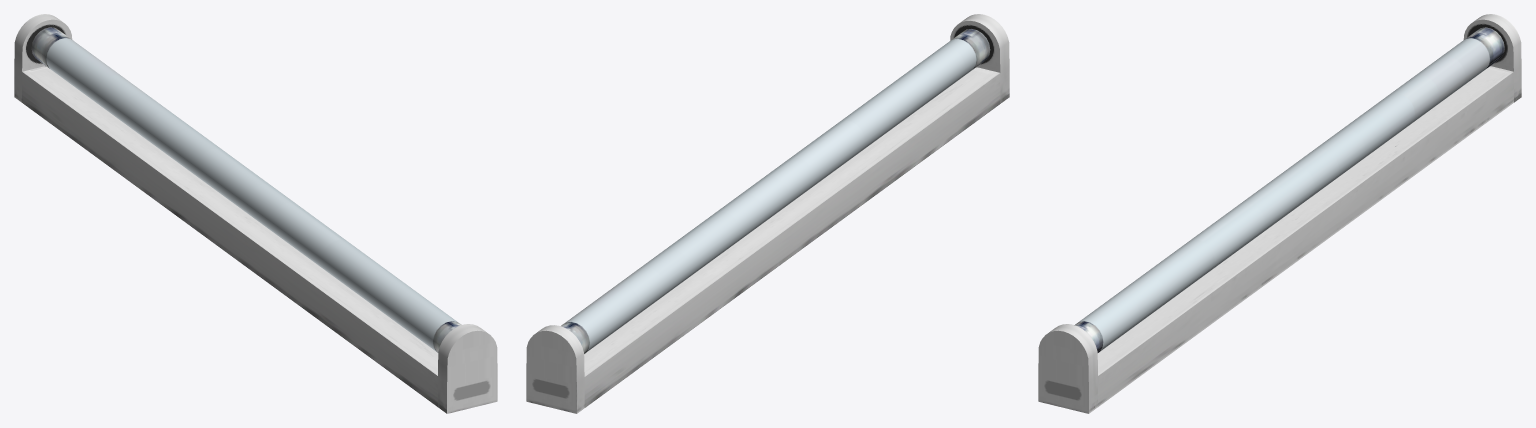
Rendered from LightLum01_01.FBX.
3 views of the same model, side by side, from view 1: azimuth 30°, elevation 25°; view 2: azimuth 150°, elevation 25°; view 3: azimuth 330°, elevation 25° (orthographic).
Visible parts, largest first — view 1: Box002; view 2: Box002; view 3: Box002.
Boxes of the visible parts, x1,y1,x2,y2 form: Box002: (14,14,497,413); Box002: (526,14,1009,413); Box002: (1038,14,1521,413).
Bounding box in the file's own units: 6.73 × 9.72 × 99.85.
